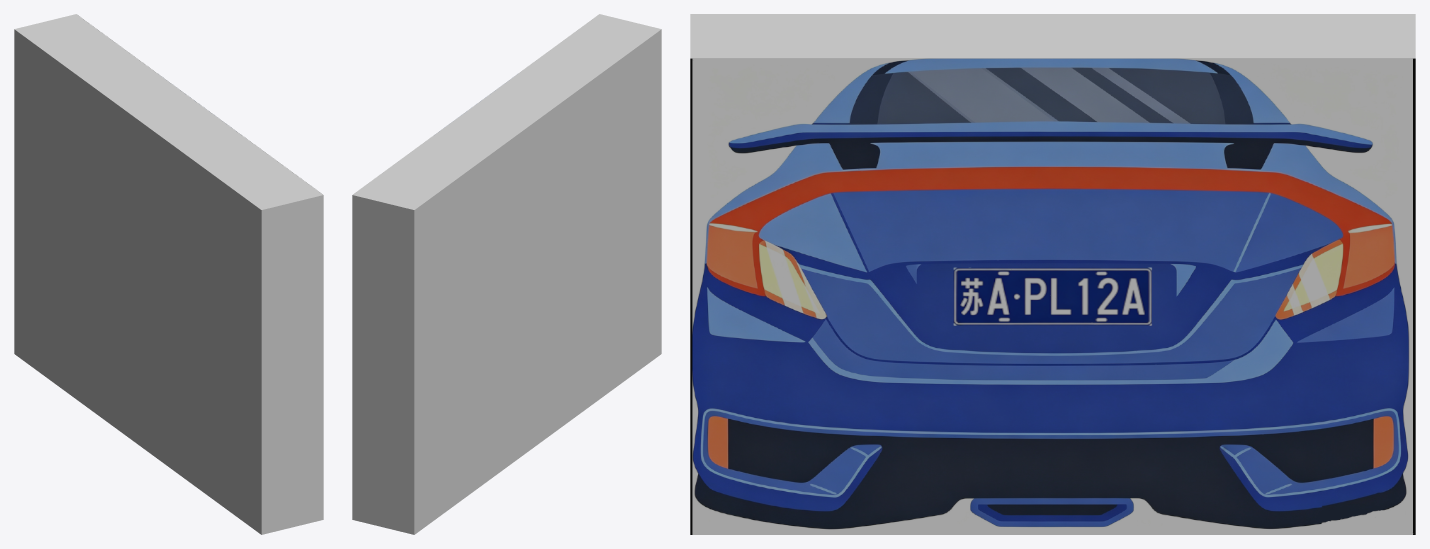
File: car3.dae
The picture shows the model from 3 angles, left to right: view 1: azimuth 30°, elevation 25°; view 2: azimuth 150°, elevation 25°; view 3: azimuth 270°, elevation 25°; orthographic projection. The views are drawn at different scales.
Parts seen in each view (by area): view 1: 立方体; view 2: 立方体; view 3: 平面, 立方体.
Boxes of the visible parts, box(x1,y1,x2,y2) form: 立方体: box(14, 14, 323, 534); 立方体: box(352, 14, 661, 534); 平面: box(690, 58, 1415, 534); 立方体: box(690, 14, 1415, 58).
Size of the model in its own units: 0.0501 by 0.345 by 0.25.
1 material, 1 textured.
